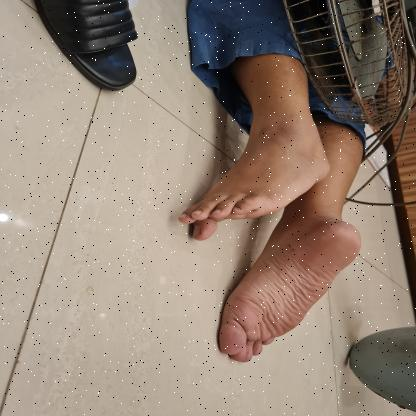leg: (167, 55, 339, 249), (206, 200, 370, 369)
